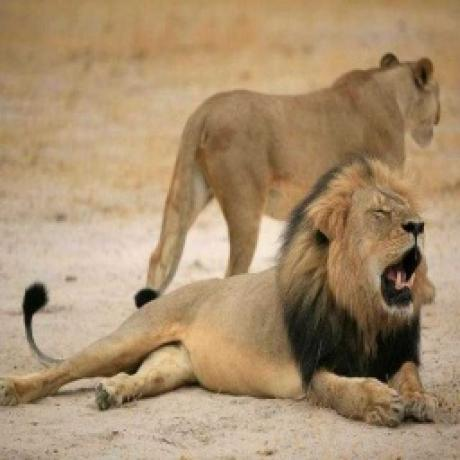Lion: (0, 156, 441, 431), (133, 50, 446, 306)
